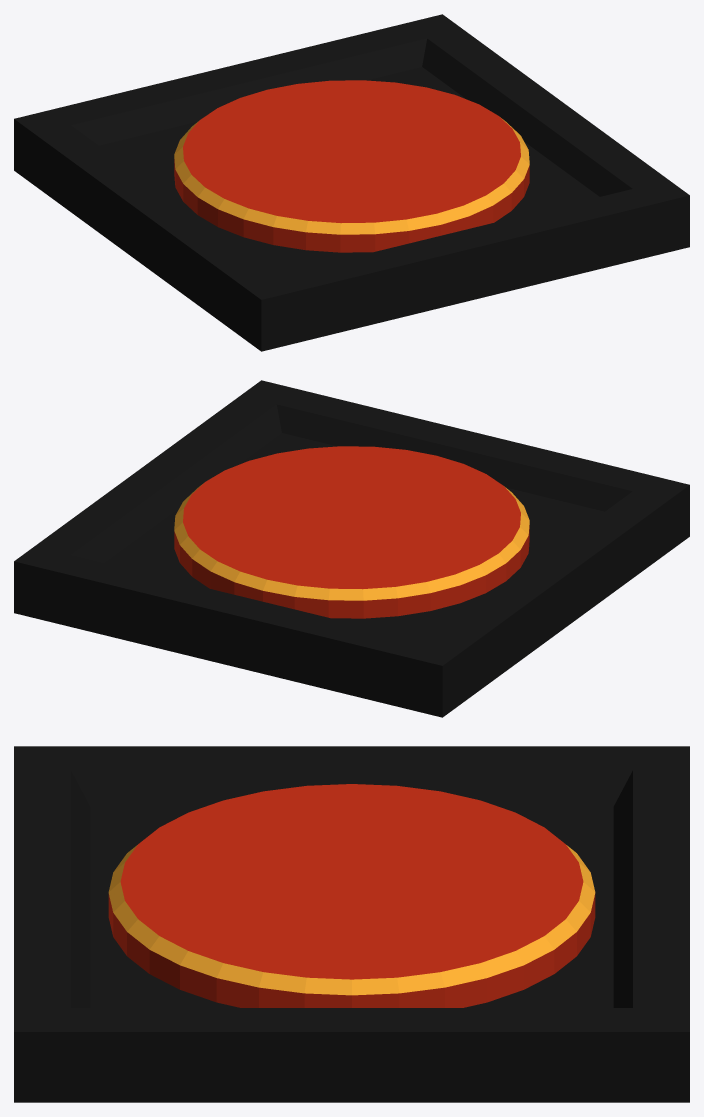
File: crate_catcher2.glb
The picture shows the model from 3 angles, top to bottom: view 1: azimuth 30°, elevation 25°; view 2: azimuth 150°, elevation 25°; view 3: azimuth 270°, elevation 25°; orthographic projection. The views are drawn at different scales.
Visible parts, largest first — view 1: Cube, Cylinder; view 2: Cube, Cylinder; view 3: Cube, Cylinder.
Part boxes in pixels (left/top/right/bottom): Cube: left=14, top=14, right=689, bottom=351; Cylinder: left=174, top=80, right=529, bottom=252; Cube: left=14, top=380, right=689, bottom=717; Cylinder: left=174, top=446, right=529, bottom=618; Cube: left=14, top=746, right=689, bottom=1102; Cylinder: left=108, top=784, right=595, bottom=1007.
Bounding box in the file's own units: 2 × 0.2549 × 2.
1 material, 1 textured.
